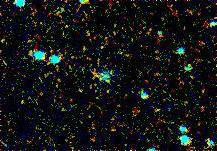star: (142, 95, 172, 125)
